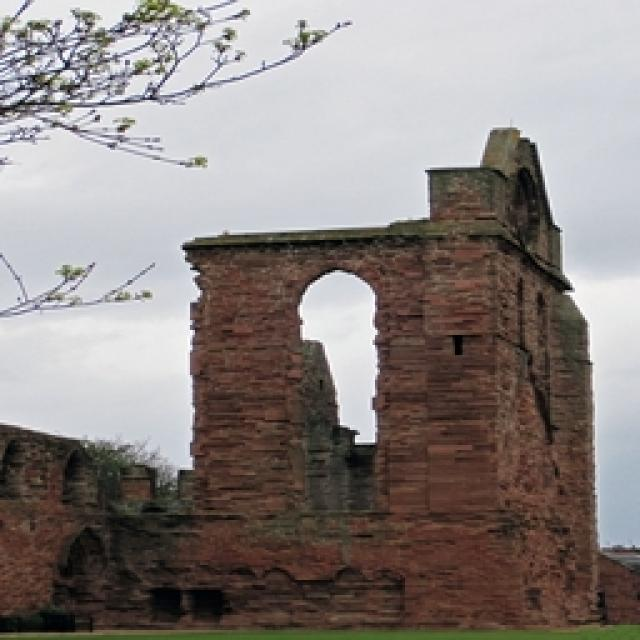Abbey: (156, 131, 613, 593)
